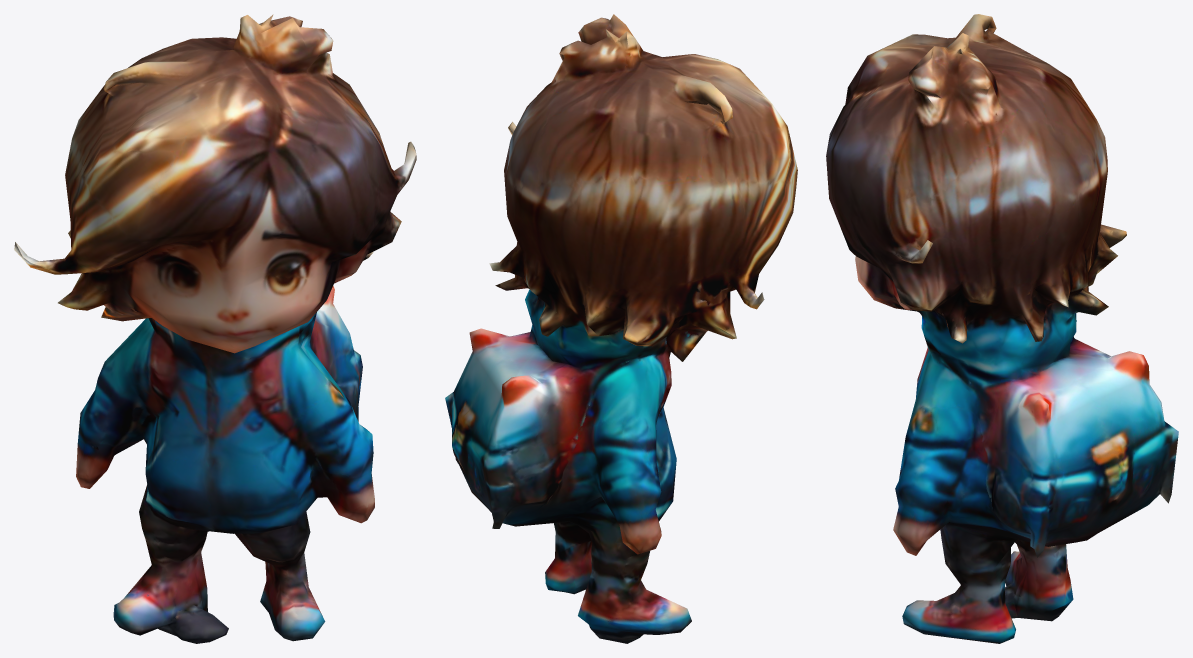
The model's file is avatar3.glb.
3 renders of one model, left to right at view 1: azimuth 30°, elevation 25°; view 2: azimuth 150°, elevation 25°; view 3: azimuth 270°, elevation 25°, orthographic. The views are drawn at different scales.
Parts seen in each view (by area): view 1: ProcessedMeshNode_LOD1; view 2: ProcessedMeshNode_LOD1; view 3: ProcessedMeshNode_LOD1.
Boxes of the visible parts, x1=… form: ProcessedMeshNode_LOD1: x1=14, y1=14, x2=416, y2=643; ProcessedMeshNode_LOD1: x1=445, y1=14, x2=797, y2=643; ProcessedMeshNode_LOD1: x1=826, y1=14, x2=1178, y2=643.
Size of the model in its own units: 0.5365 by 0.9281 by 0.4974.
1 material, 1 textured.
